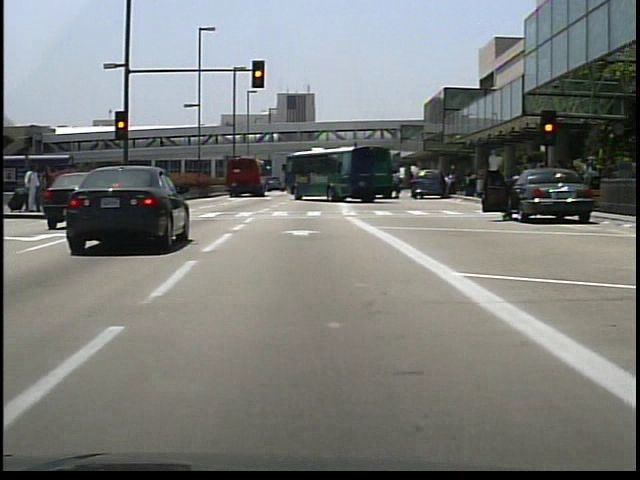person: (497, 170, 523, 222), (23, 163, 40, 213), (438, 169, 450, 197)
